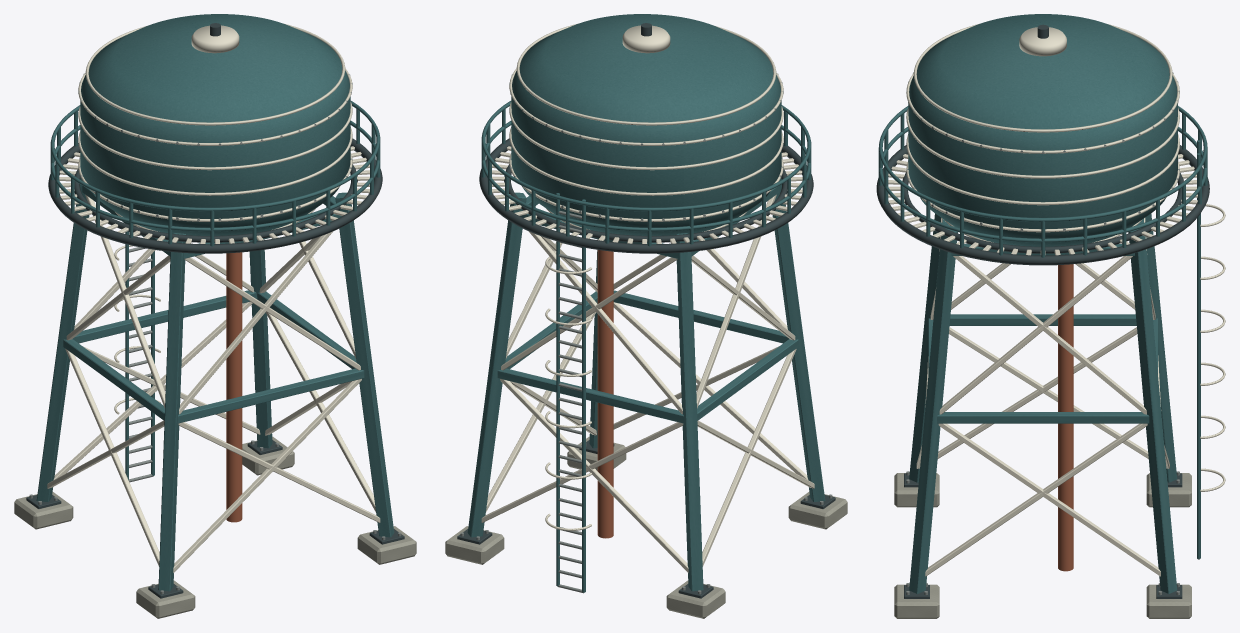
The picture shows the model from 3 angles, left to right: view 1: azimuth 30°, elevation 25°; view 2: azimuth 150°, elevation 25°; view 3: azimuth 270°, elevation 25°; orthographic projection. The views are drawn at different scales.
Parts seen in each view (by area): view 1: static_assembly_steel, static_assembly_ivory, static_assembly_dark, static_assembly_concrete, static_assembly_rust, static_assembly_bolt, hatch_lid; view 2: static_assembly_steel, static_assembly_ivory, static_assembly_dark, static_assembly_concrete, static_assembly_rust, static_assembly_bolt, hatch_lid; view 3: static_assembly_steel, static_assembly_ivory, static_assembly_dark, static_assembly_rust, static_assembly_concrete, hatch_lid, static_assembly_bolt.
Boxes of the visible parts, x1,y1,x2,y2 form: static_assembly_steel: (36,14,394,591); static_assembly_ivory: (47,23,380,572); static_assembly_dark: (26,138,404,598); static_assembly_concrete: (14,436,416,618); static_assembly_rust: (226,252,242,522); static_assembly_bolt: (29,73,401,594); hatch_lid: (191,25,239,53); static_assembly_steel: (467,14,825,592); static_assembly_ivory: (481,23,814,572); static_assembly_dark: (457,138,835,598); static_assembly_concrete: (445,436,847,618); static_assembly_rust: (597,239,613,538); static_assembly_bolt: (460,73,832,594); hatch_lid: (622,25,670,53); static_assembly_steel: (878,14,1207,593); static_assembly_ivory: (888,24,1225,576); static_assembly_dark: (876,145,1209,598); static_assembly_rust: (1058,264,1073,571); static_assembly_concrete: (894,473,1191,618); hatch_lid: (1019,27,1066,56); static_assembly_bolt: (906,72,1199,595).
Size of the model in its own units: 6 by 10 by 6.
6 materials, 2 textured.
